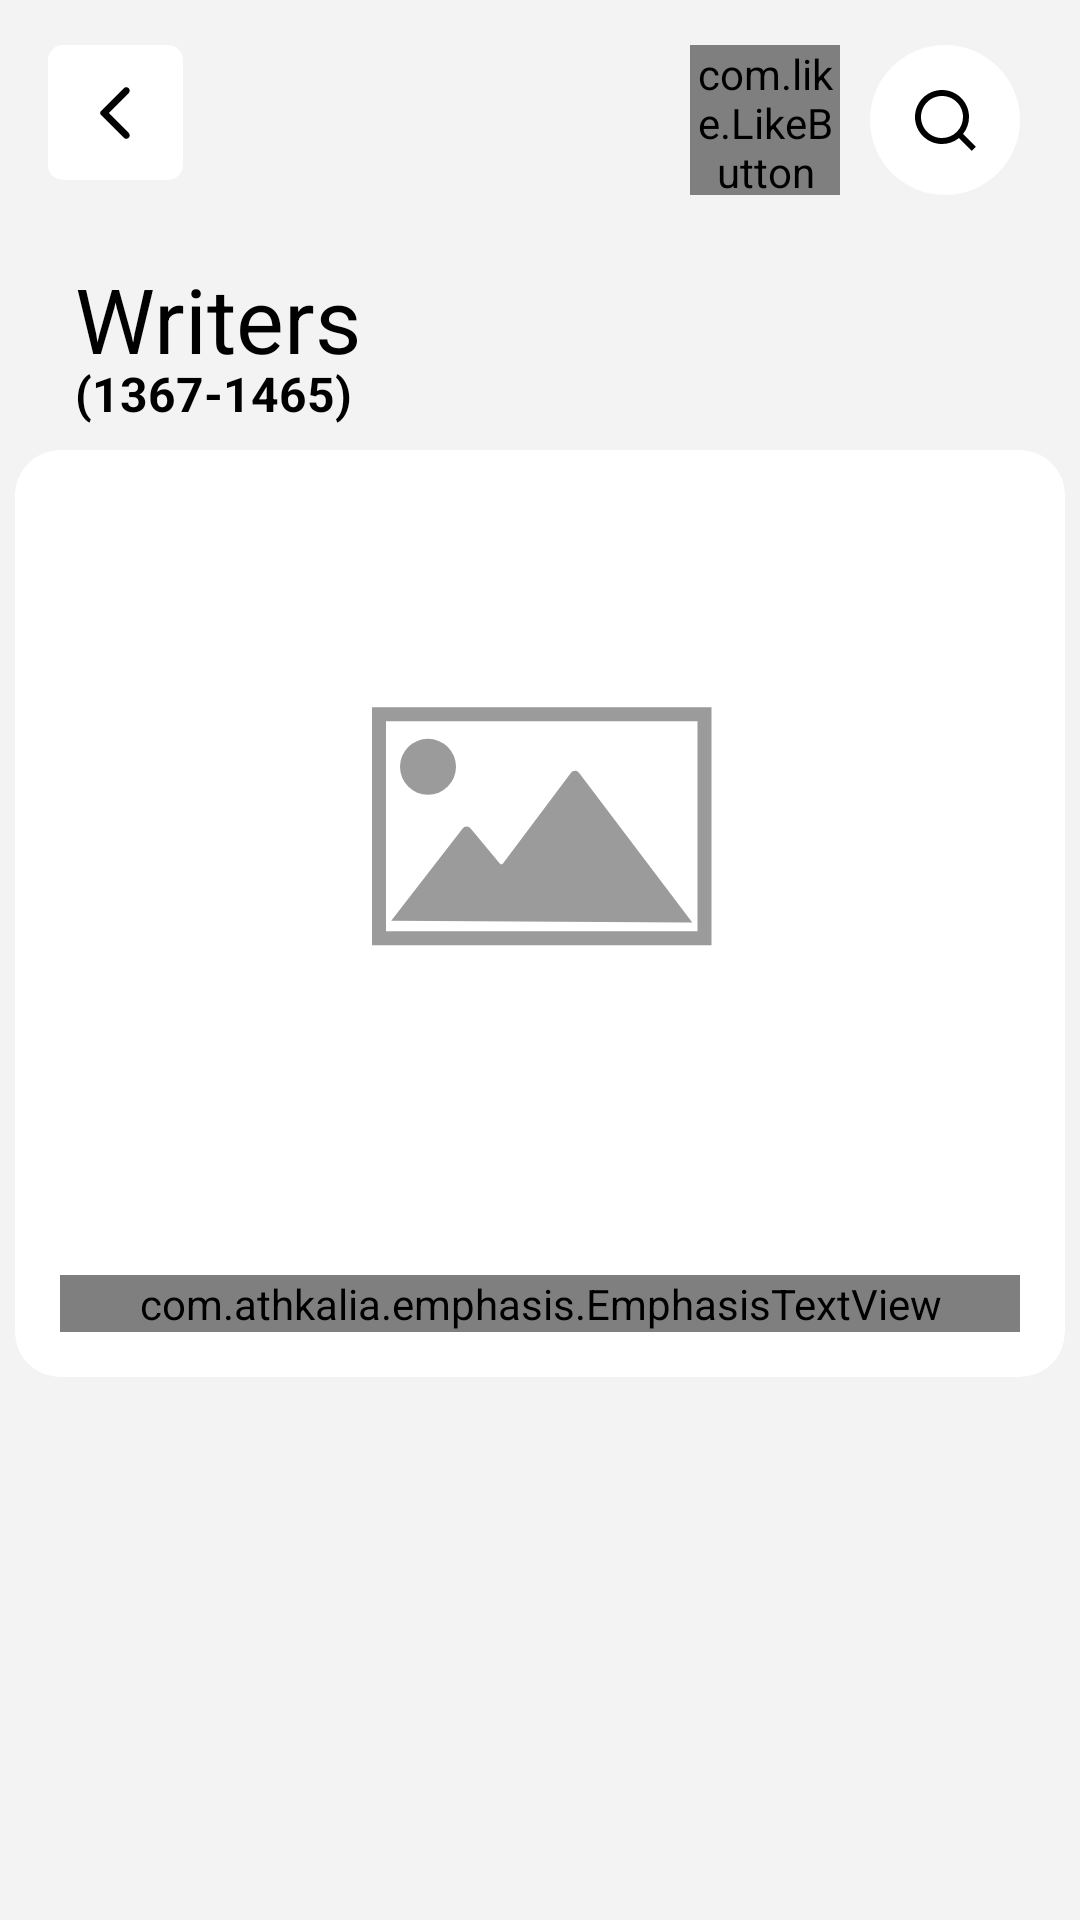

Where icons sit on this 1080 x 1920 app screen, as (x1, y1, x2, y2):
back: (48, 45, 183, 180)
search: (870, 45, 1020, 195)
